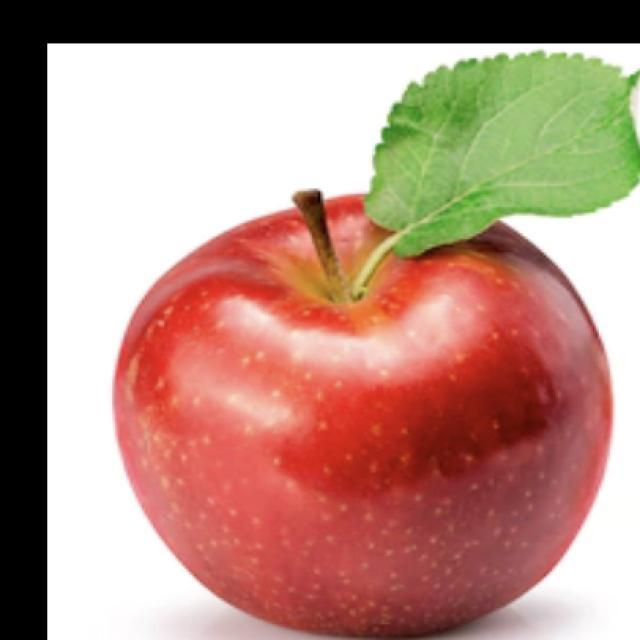Apple: (111, 187, 614, 639)
